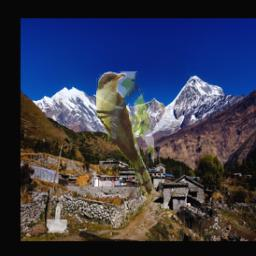Cuckoo: (96, 72, 154, 197)
